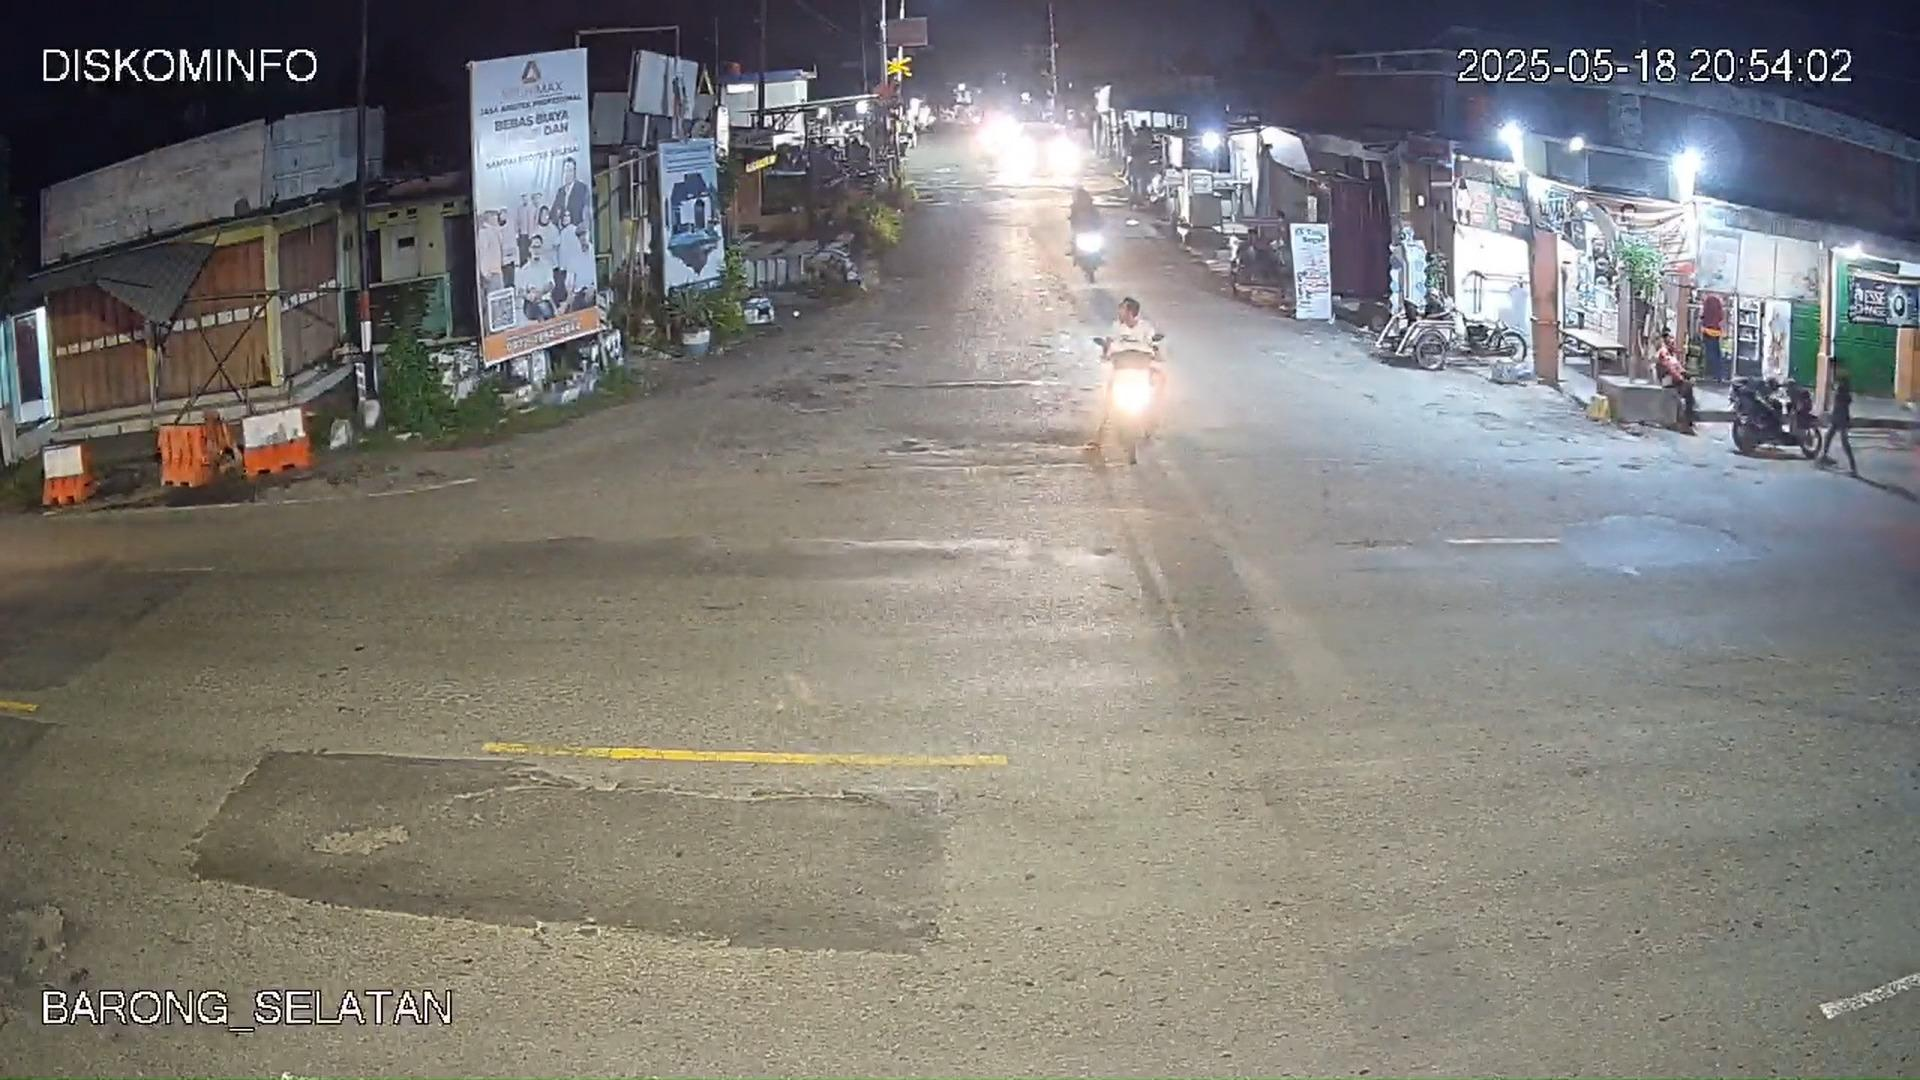Motor: (1073, 291, 1156, 462), (1730, 372, 1820, 456)
